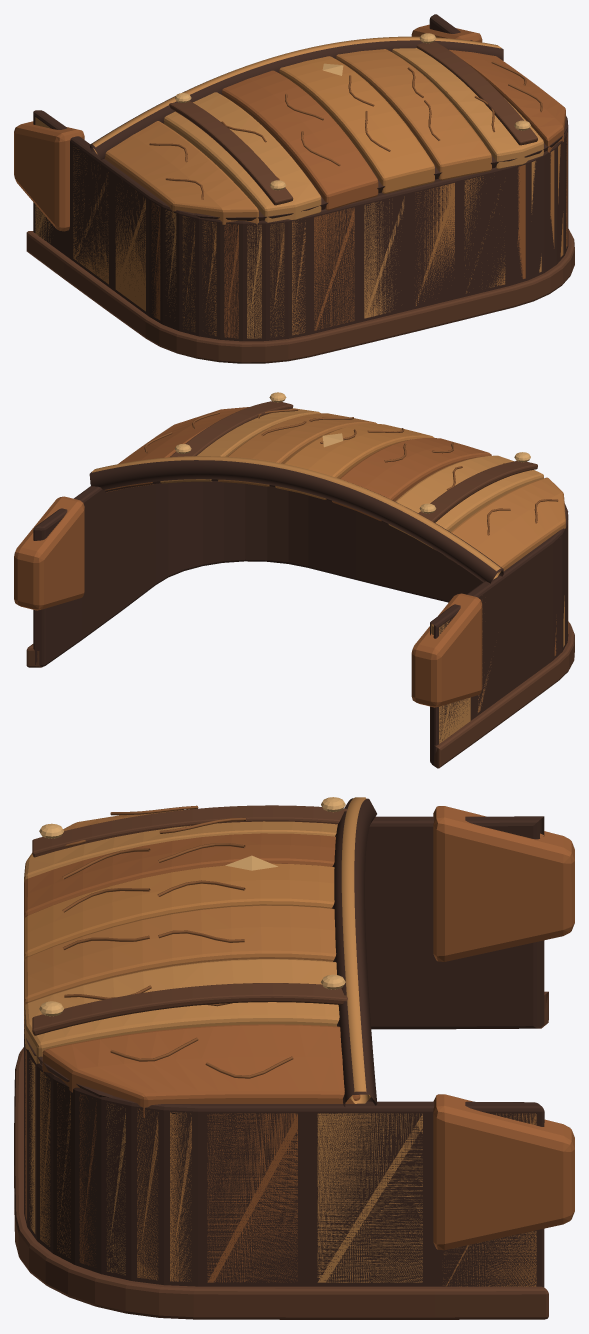
Rendered from wood_helmet.fbx.
The picture shows the model from 3 angles, top to bottom: view 1: azimuth 30°, elevation 25°; view 2: azimuth 150°, elevation 25°; view 3: azimuth 270°, elevation 25°; orthographic projection. The views are drawn at different scales.
Parts seen in each view (by area): view 1: wood_helmet_armor; view 2: wood_helmet_armor; view 3: wood_helmet_armor.
Part boxes in pixels (x1,y1,x2,y2): wood_helmet_armor: (14, 14, 574, 363); wood_helmet_armor: (14, 392, 574, 768); wood_helmet_armor: (14, 797, 574, 1319).
Bounding box in the file's own units: 4.08 × 1.89 × 3.13.
Materials: 1 (1 with a texture image).
